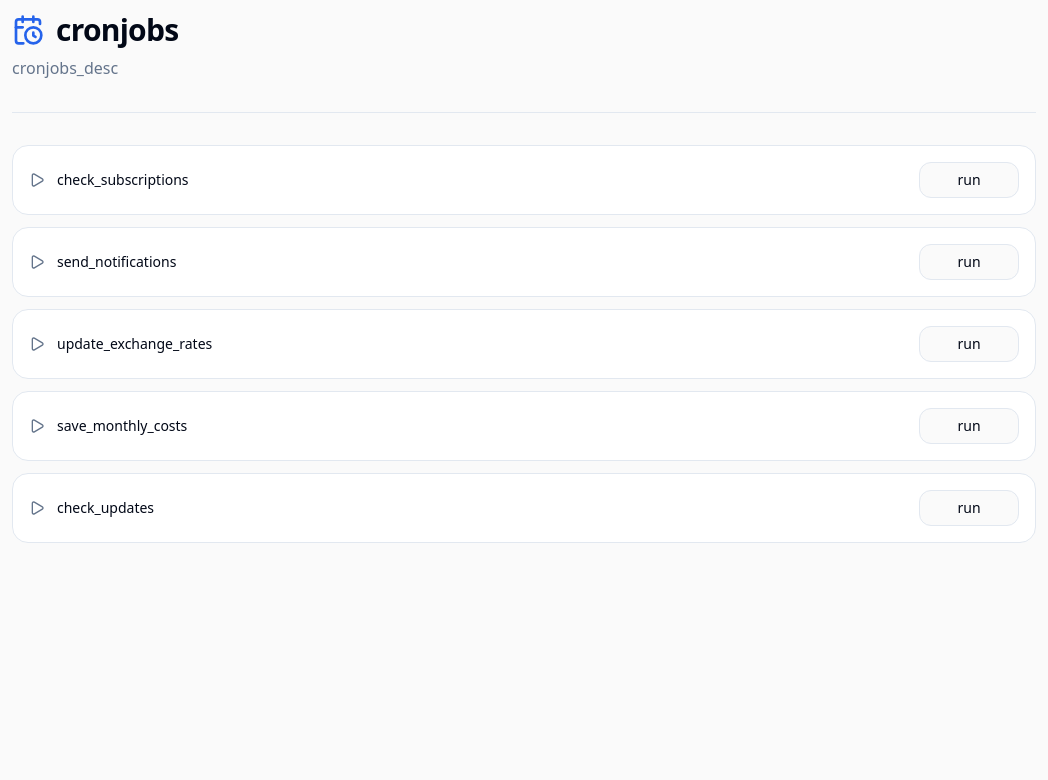
Test case: CronjobsTab › handles successful run
The width and height of the screenshot is (1048, 780).
# Click the first one (check_subscriptions)
Click the button "run" in the row of "check_subscriptions".
click(969, 180)  # box [919,162,1019,198]
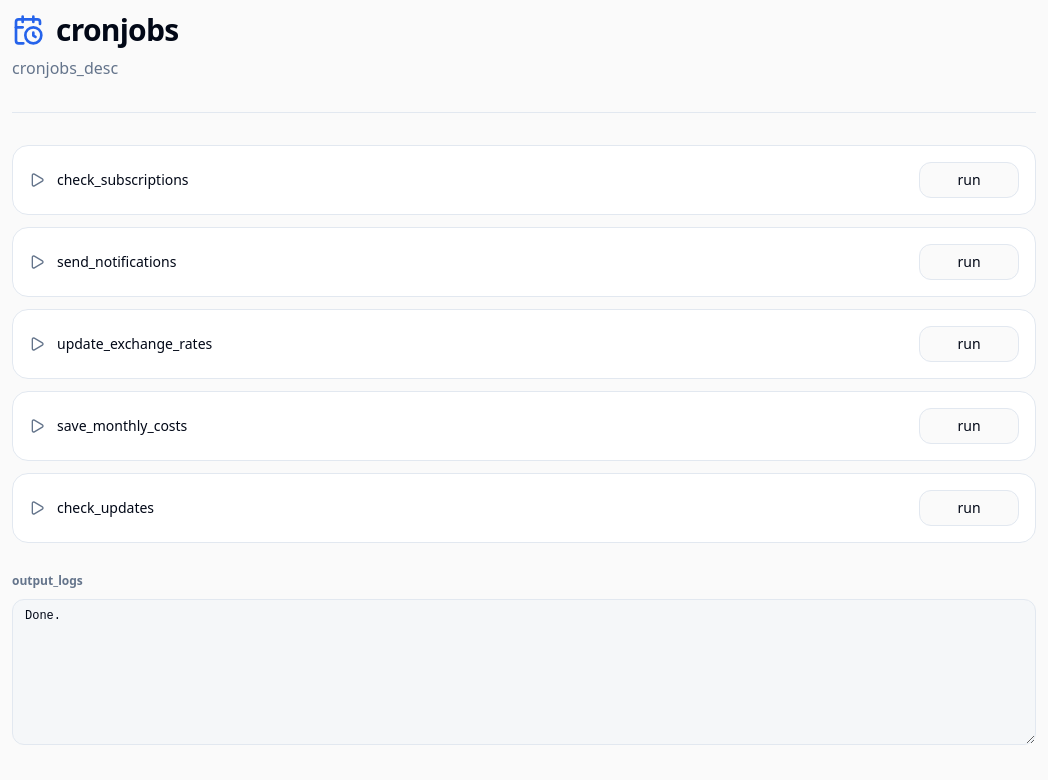
Expected: the text box holds "Done.", [12,599,1036,745]
